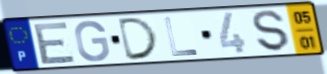4: (218, 11, 248, 56)
D: (117, 16, 161, 62)
E: (32, 20, 78, 66)
G: (72, 19, 112, 63)
L: (162, 16, 201, 58)
S: (251, 9, 292, 53)
